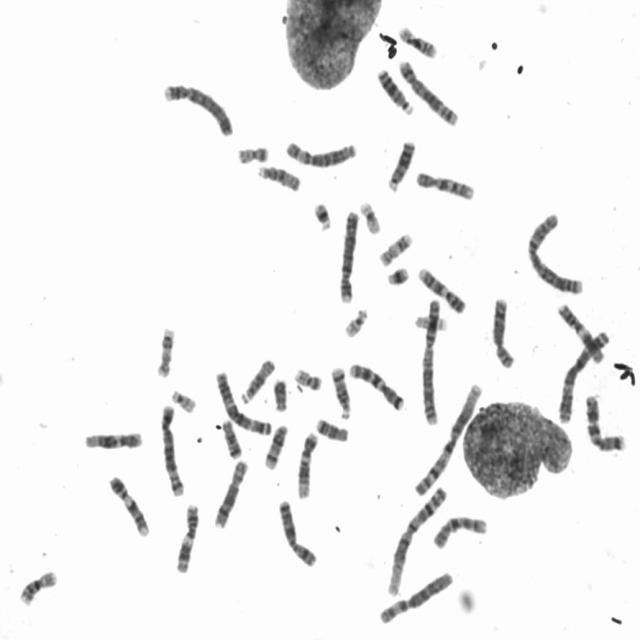A1: (412, 379, 486, 498), (383, 482, 450, 598)
A2: (522, 208, 586, 296), (418, 290, 444, 428)
A3: (555, 325, 611, 425), (212, 366, 274, 436)
B4: (159, 78, 236, 138), (336, 205, 361, 304)
B5: (395, 54, 460, 127), (157, 400, 187, 498)
C10: (428, 509, 489, 551), (413, 166, 477, 202)
C11: (553, 299, 606, 364), (172, 498, 201, 574)
C12: (293, 428, 320, 500), (81, 426, 144, 451)
C6: (376, 566, 456, 626), (282, 136, 359, 170)
C7: (345, 358, 407, 412), (582, 388, 628, 454)
C8: (210, 455, 250, 531), (488, 292, 516, 370)
C9: (106, 471, 152, 538), (415, 262, 469, 315)
D13: (374, 62, 416, 116), (385, 134, 417, 192)
D14: (328, 362, 353, 421), (262, 420, 290, 471)
D15: (238, 354, 276, 405), (255, 160, 303, 193)
E16: (16, 565, 60, 607), (395, 21, 439, 59)
E17: (376, 228, 414, 268), (153, 322, 176, 380)
E18: (313, 414, 351, 443), (219, 415, 244, 459)
F19: (357, 196, 383, 236), (412, 309, 449, 332)
F20: (291, 363, 324, 392), (234, 141, 271, 165)
G21: (310, 197, 334, 232), (384, 262, 412, 287)
G22: (340, 304, 370, 339), (168, 385, 198, 414)
X: (276, 496, 320, 568)
Y: (270, 374, 290, 413)
